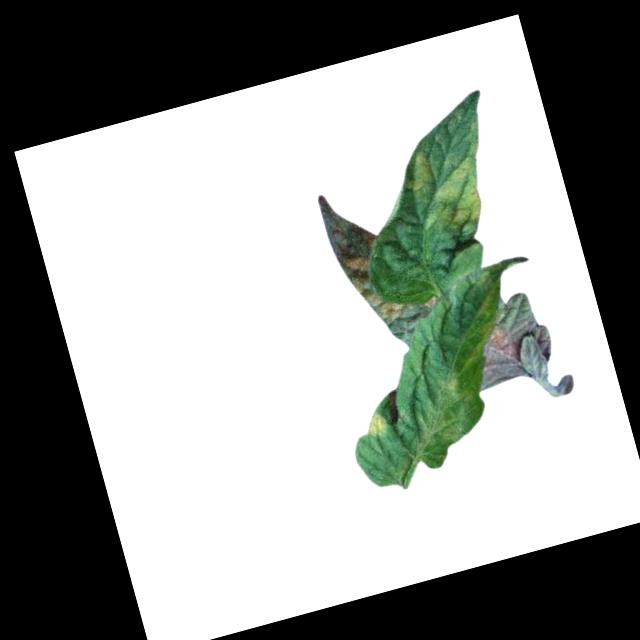Leaf_Mold: (399, 128, 501, 243), (458, 290, 558, 392), (317, 186, 392, 310), (364, 288, 446, 354), (362, 407, 390, 440)
